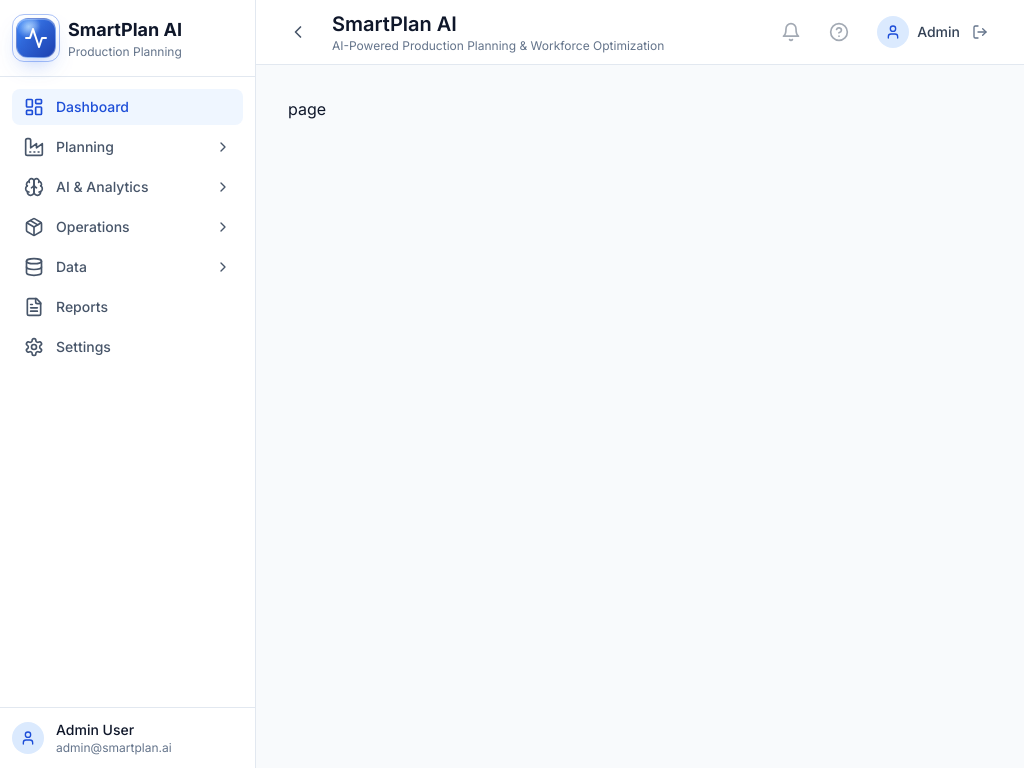
Test: sidebar navigation › every group can be opened from the dashboard
The width and height of the screenshot is (1024, 768).
Click the button "Planning". click: [128, 147]
box: [12,129,243,165]
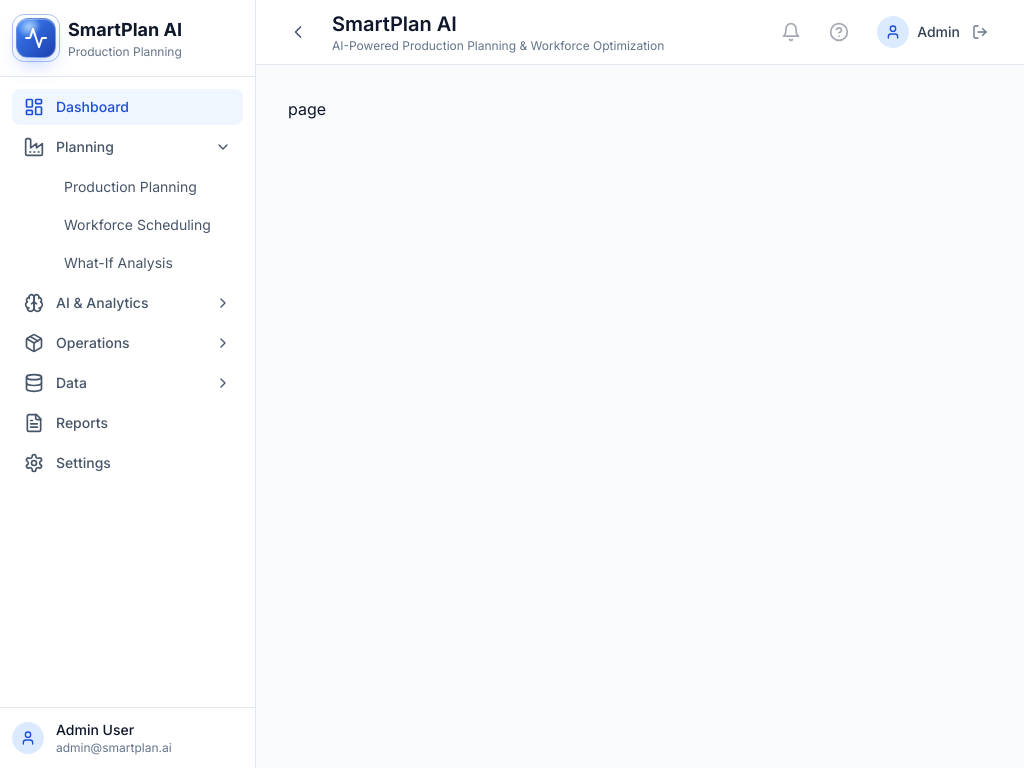
expect the link "Production Planning" is shown: met, box [64,178,197,195]
Click the button "AI & Analytics". click: [128, 303]
box: [12,285,243,321]
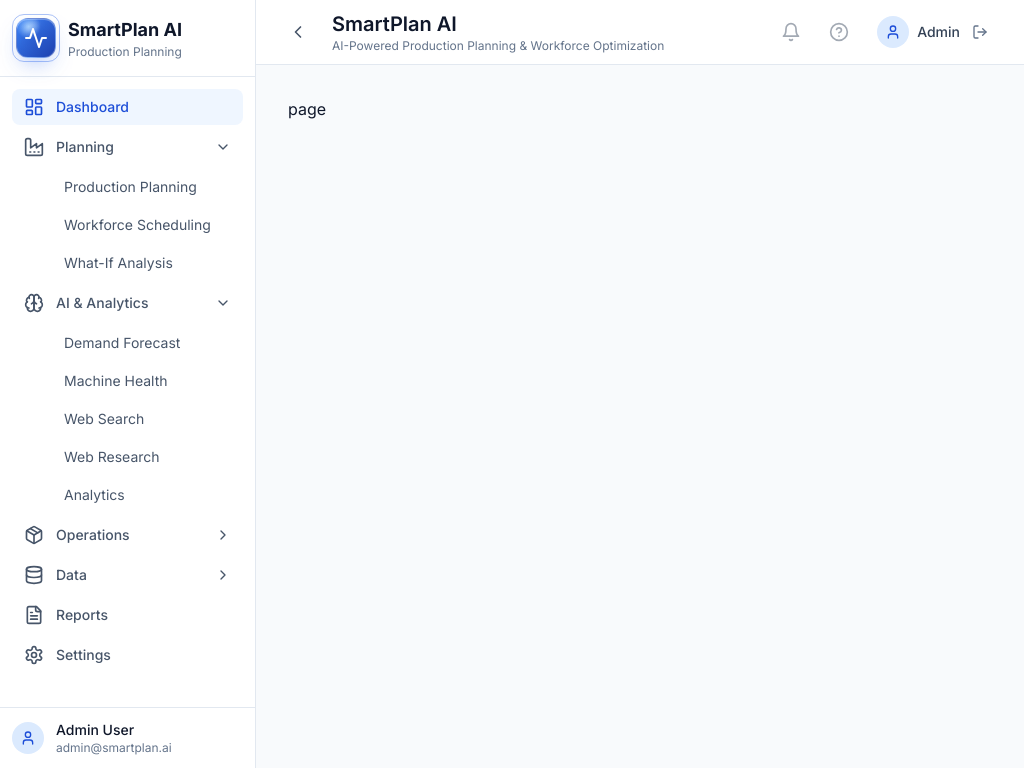
expect the link "Demand Forecast" is shown: met, box [64,334,180,351]
Click the button "Operations". click: [128, 535]
box: [12,517,243,553]
(page scrolled)
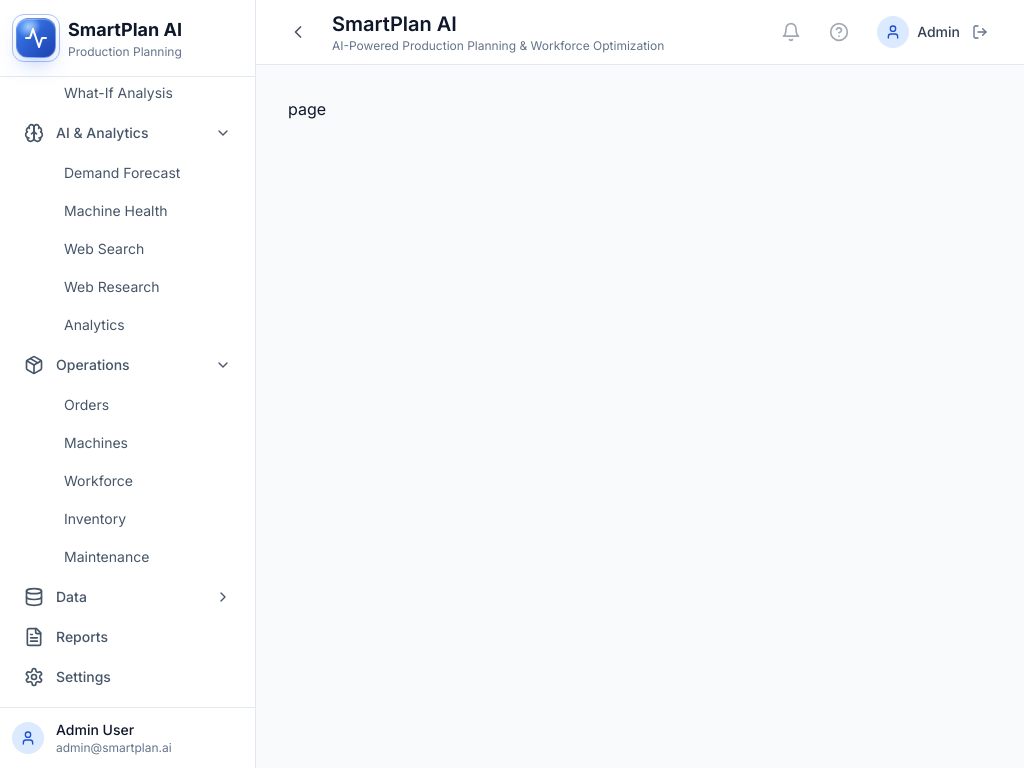
expect the link "Maintenance" is shown: met, box [64,548,149,565]
Click the button "Data". click: [128, 597]
box: [12,579,243,615]
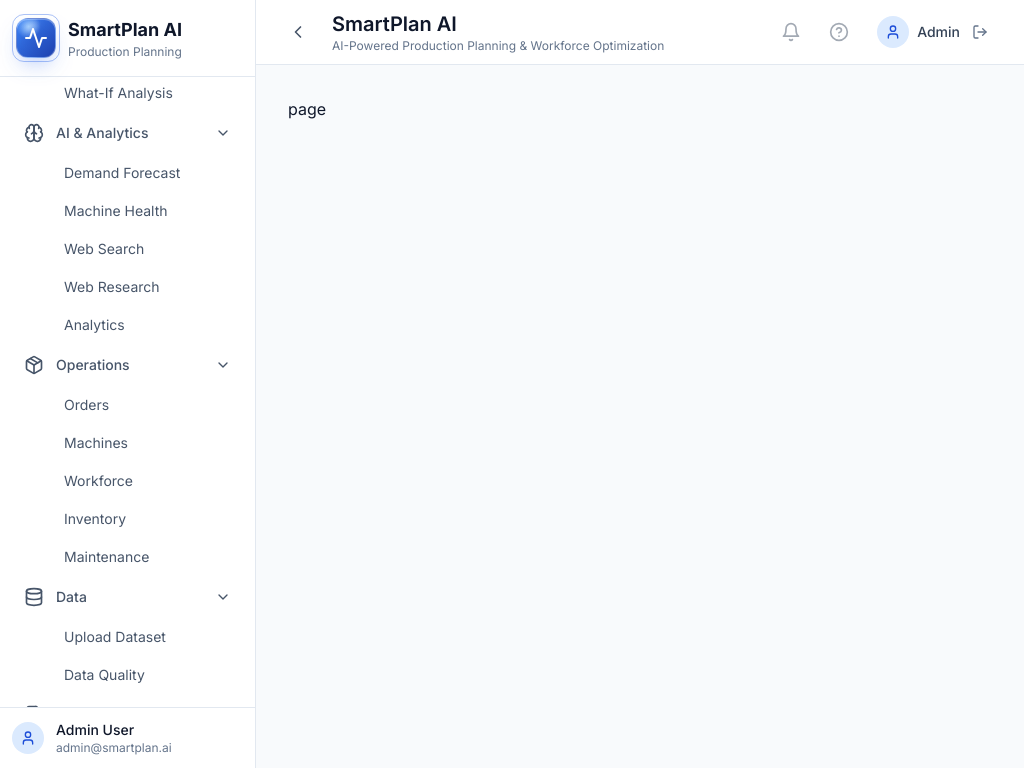
expect the link "Data Quality" is shown: met, box [64,666,145,683]
